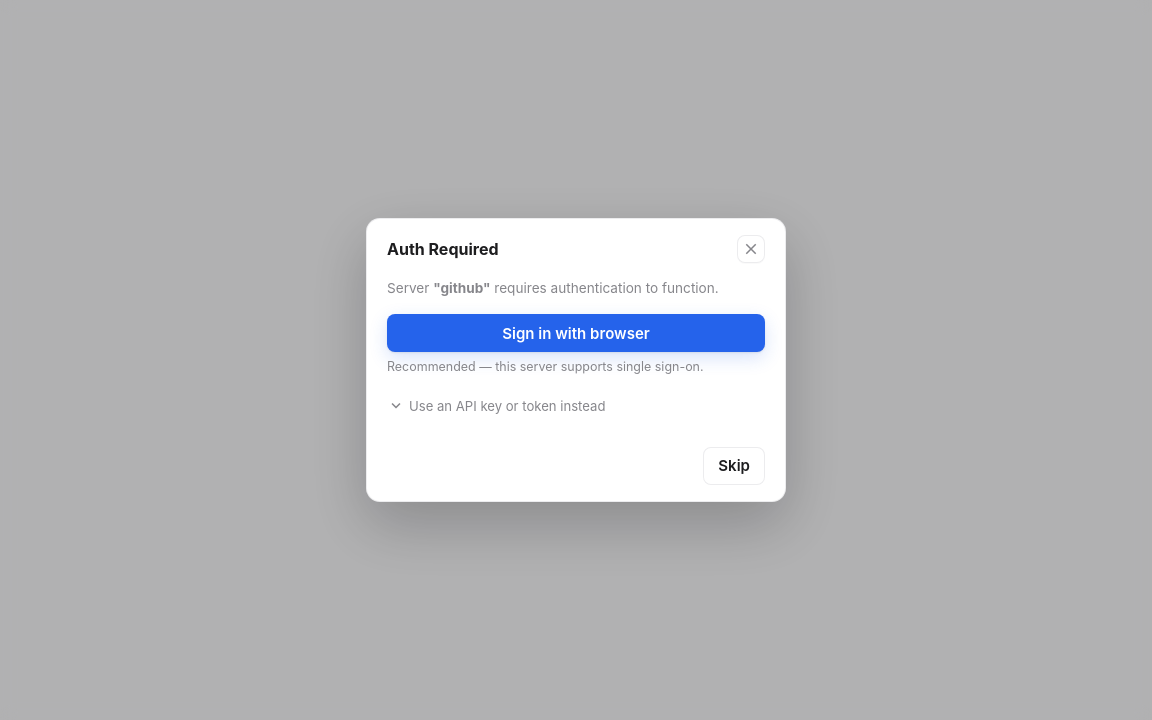
Test: AuthModal › shows the error banner when the OAuth login fails for a real reason
The width and height of the screenshot is (1152, 720).
Click the button "Sign in with browser".
click(576, 333)  # box [387, 314, 765, 352]
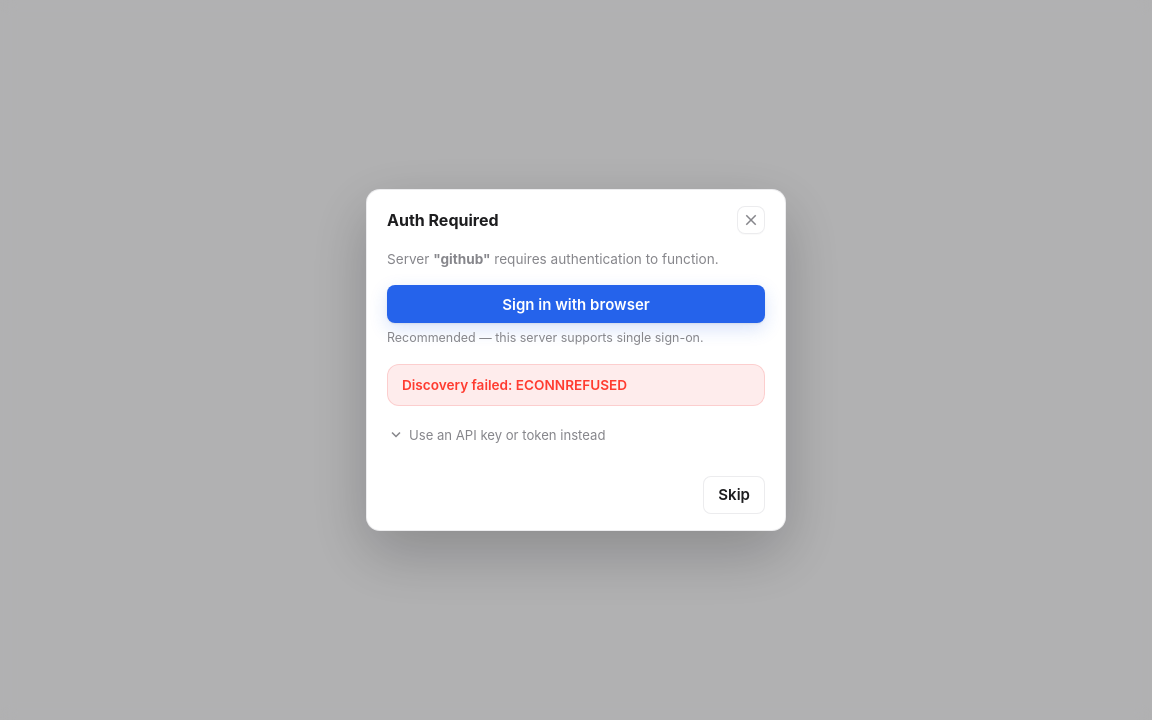
Check: the text "Discovery failed: ECONNREFUSED" is shown, box [387, 364, 765, 406]
